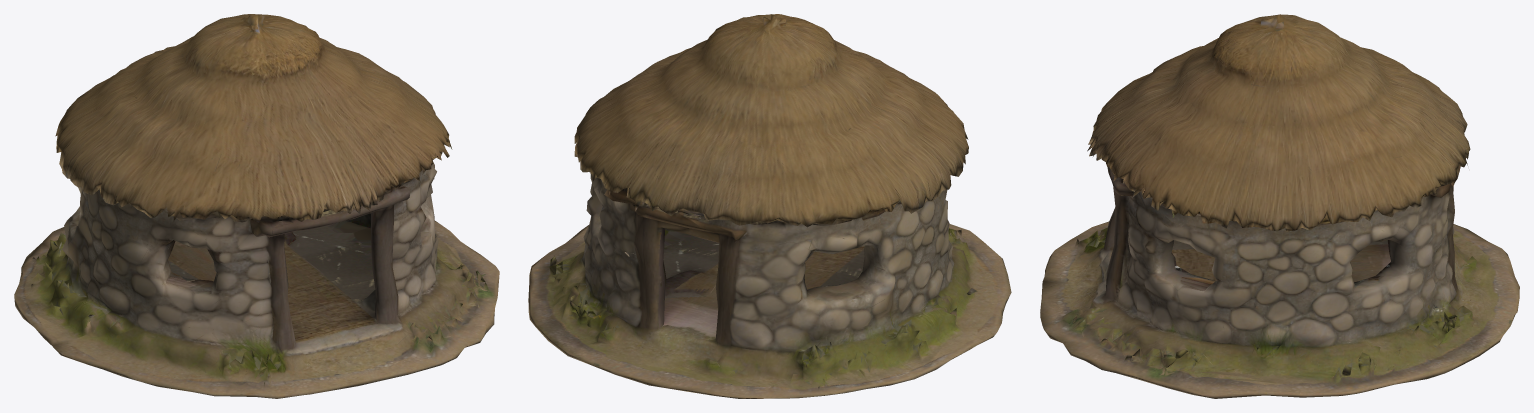
The model's file is rundhuette_original.glb.
3 renders of one model, left to right at view 1: azimuth 30°, elevation 25°; view 2: azimuth 150°, elevation 25°; view 3: azimuth 270°, elevation 25°, orthographic.
Bounding box in the file's own units: 1.99 × 1.29 × 1.99.
1 material, 1 textured.
